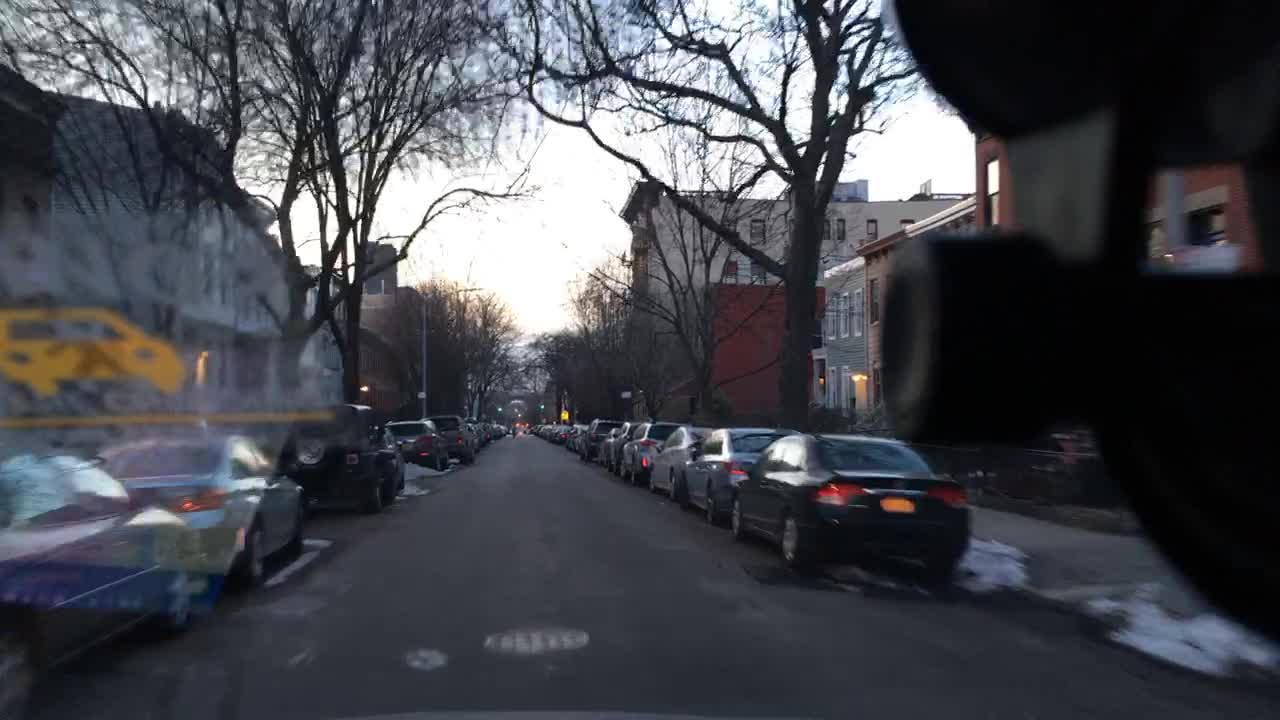car: (724, 432, 972, 585), (0, 456, 202, 640), (89, 435, 316, 586), (247, 405, 404, 510), (680, 428, 801, 526), (648, 425, 716, 501), (623, 423, 686, 485), (384, 417, 449, 469), (418, 415, 482, 463), (611, 423, 648, 474), (580, 420, 625, 459), (599, 427, 623, 468), (464, 416, 487, 441), (567, 423, 587, 451), (463, 423, 481, 452), (554, 422, 577, 440), (479, 420, 495, 439), (487, 422, 503, 436), (492, 422, 509, 434), (545, 425, 559, 439), (511, 418, 520, 438), (529, 422, 542, 434), (538, 424, 551, 436), (522, 422, 532, 432)
traffic light: (538, 398, 550, 411)
